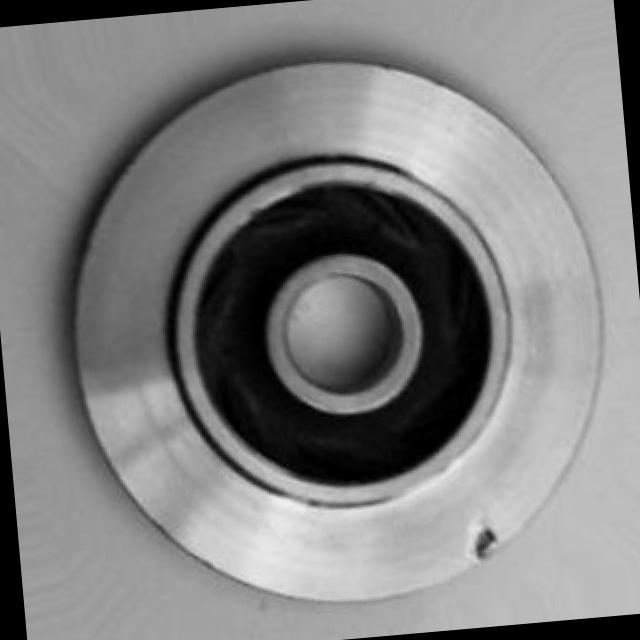Defect: (462, 515, 508, 564)
